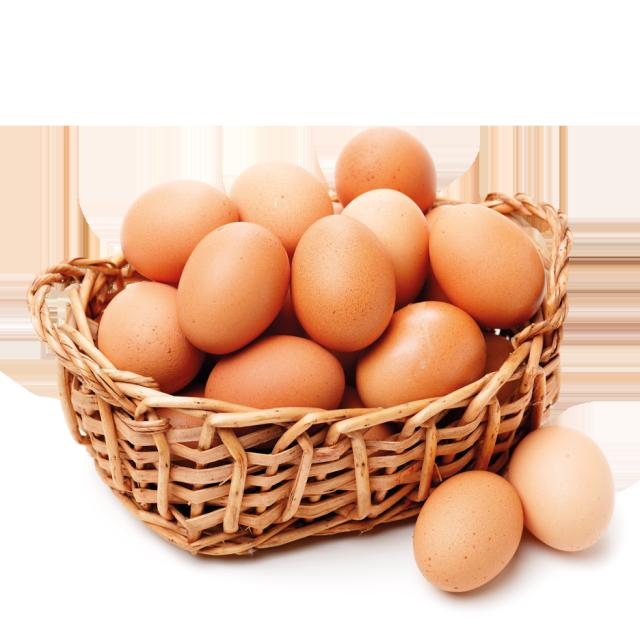Egg: (123, 185, 487, 390), (506, 421, 621, 565), (174, 217, 288, 361), (417, 479, 531, 606), (294, 212, 393, 348), (115, 173, 244, 273), (328, 121, 445, 212), (222, 151, 336, 234)
